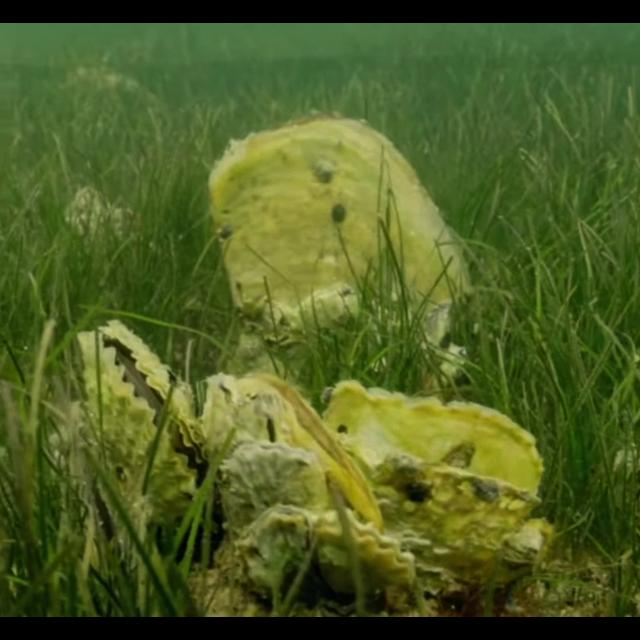Oyster-Closed: (209, 112, 477, 346), (199, 372, 381, 528), (215, 435, 321, 533)
Oyster-Open: (321, 380, 553, 592), (76, 318, 206, 532), (236, 502, 416, 612)
